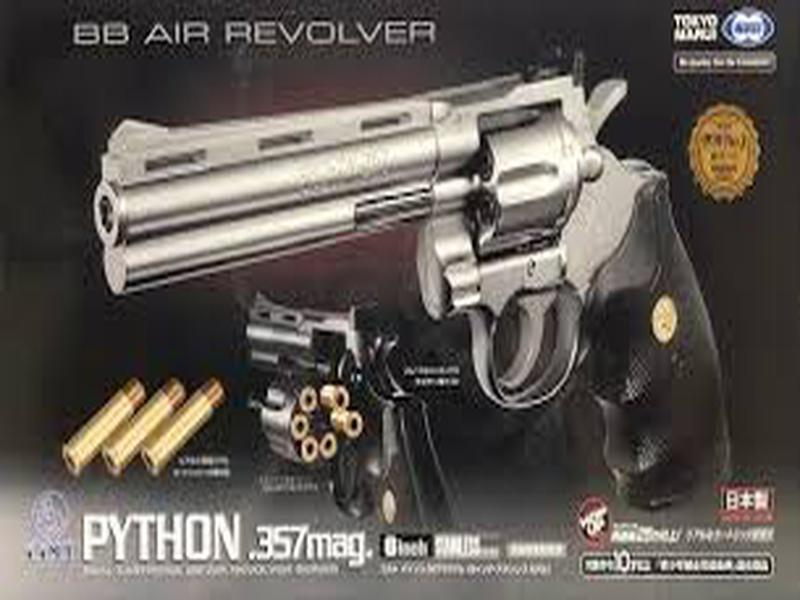gun: (89, 63, 759, 513)
